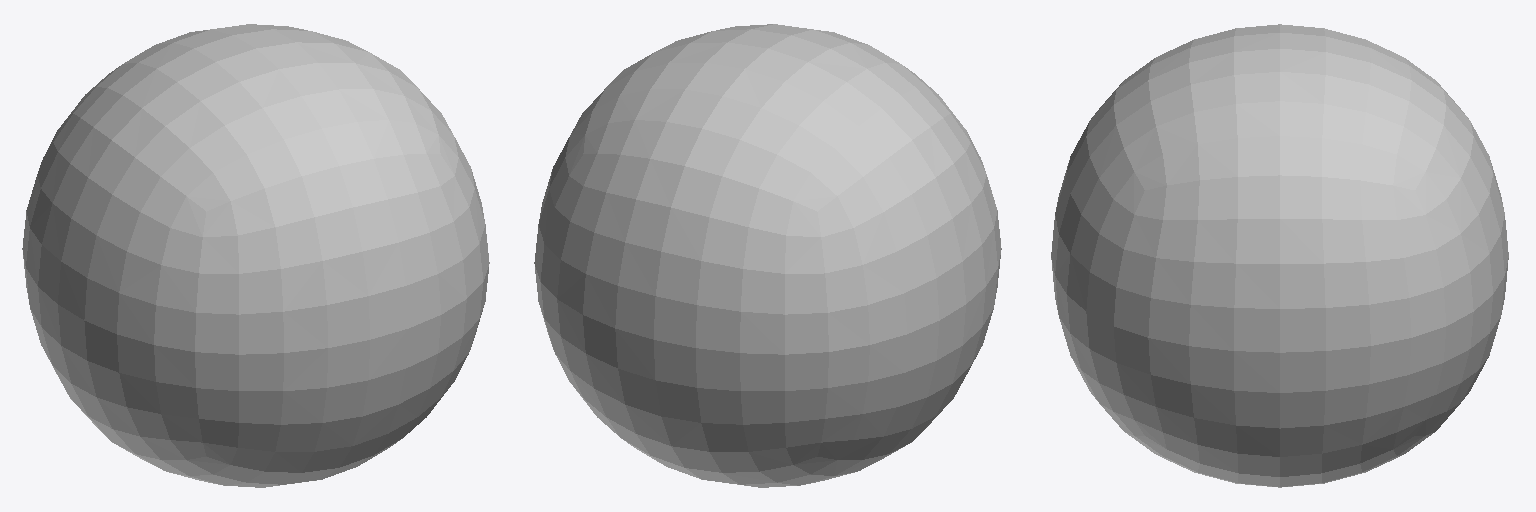
Rendered from Atmosfera.obj.
3 views of the same model, side by side, from view 1: azimuth 30°, elevation 25°; view 2: azimuth 150°, elevation 25°; view 3: azimuth 270°, elevation 25° (orthographic).
Parts seen in each view (by area): view 1: pCube1; view 2: pCube1; view 3: pCube1.
Boxes of the visible parts, <box> form: pCube1: <box>22,24,489,487</box>; pCube1: <box>534,24,1001,487</box>; pCube1: <box>1051,24,1508,487</box>.
Size of the model in its own units: 20.74 by 20.74 by 20.74.